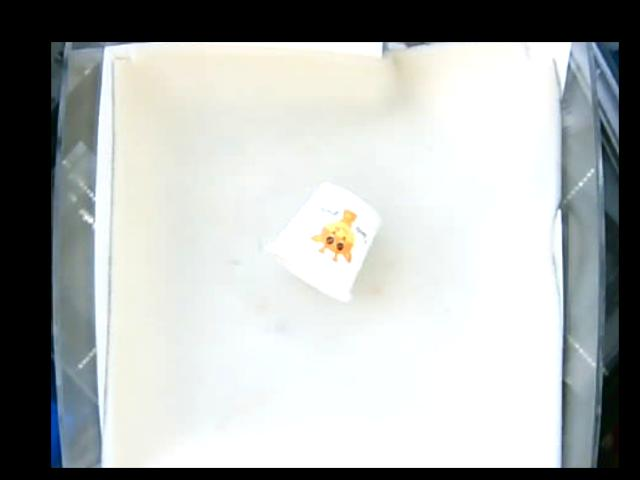Cup: (265, 182, 383, 299)
